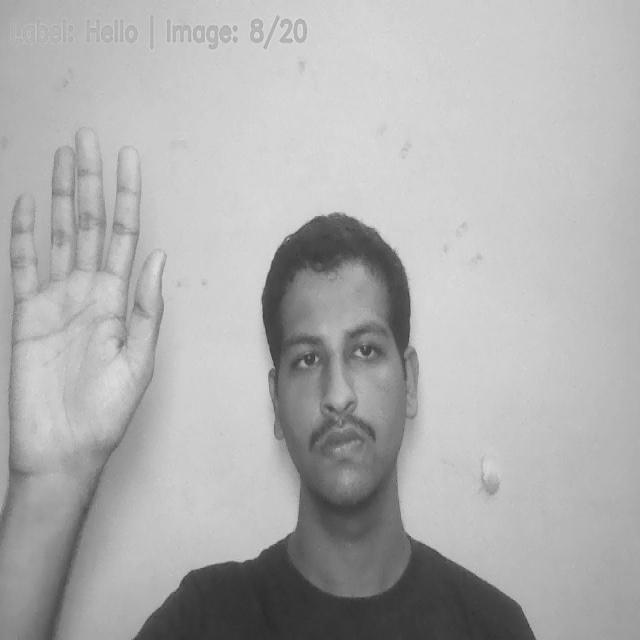Hello: (16, 125, 161, 493)
